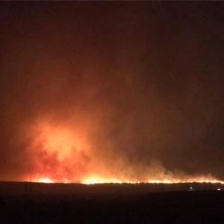fire: (25, 168, 224, 189)
